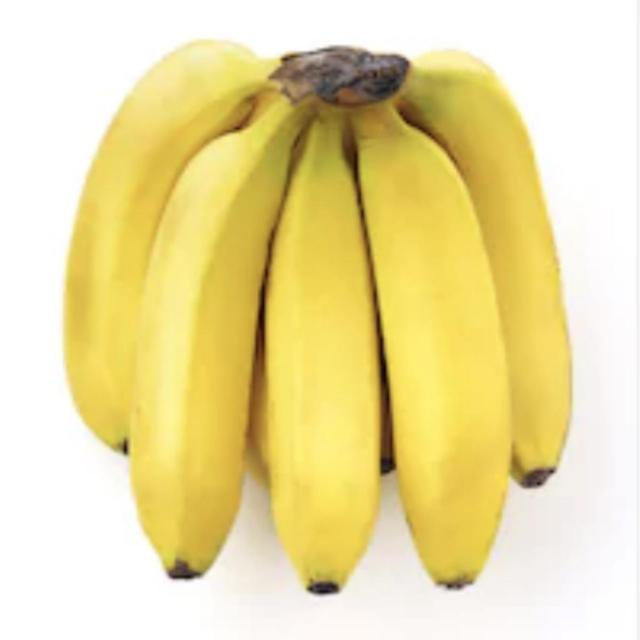banana: (337, 96, 536, 608), (250, 91, 402, 622), (124, 69, 266, 608)
